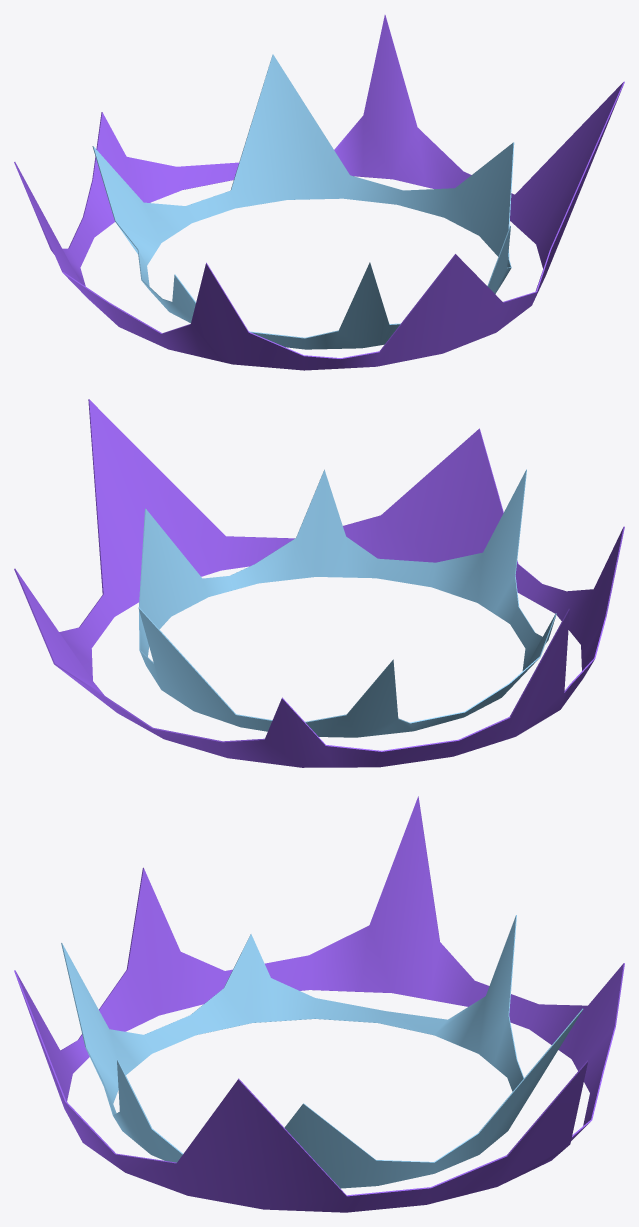
The model's file is wackerFX.fbx.
3 renders of one model, top to bottom at view 1: azimuth 30°, elevation 25°; view 2: azimuth 150°, elevation 25°; view 3: azimuth 270°, elevation 25°, orthographic. The views are drawn at different scales.
Parts seen in each view (by area): view 1: Shockwave1nner (×2); view 2: Shockwave1nner (×2); view 3: Shockwave1nner (×2).
Part boxes in pixels (box(x1,y1,x2,y2)): Shockwave1nner (×2): box(14, 15, 624, 370); Shockwave1nner (×2): box(14, 399, 624, 767); Shockwave1nner (×2): box(14, 796, 624, 1212).
Size of the model in its own units: 0.3122 by 0.086 by 0.2749.
